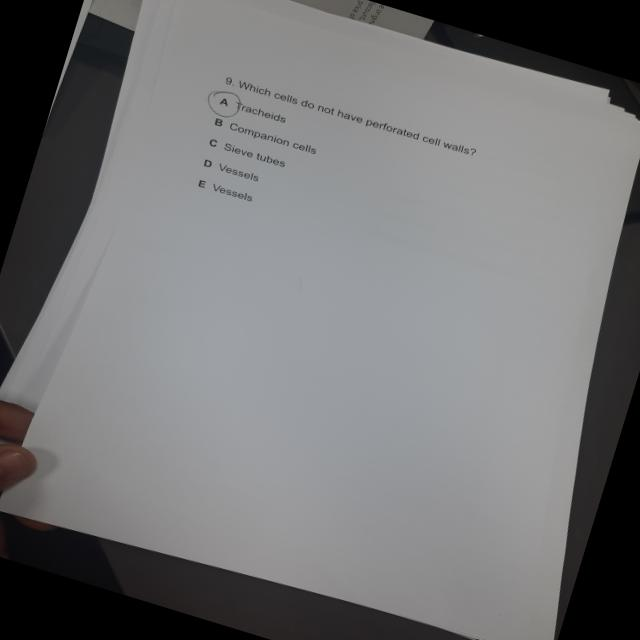A: (200, 85, 252, 126)
